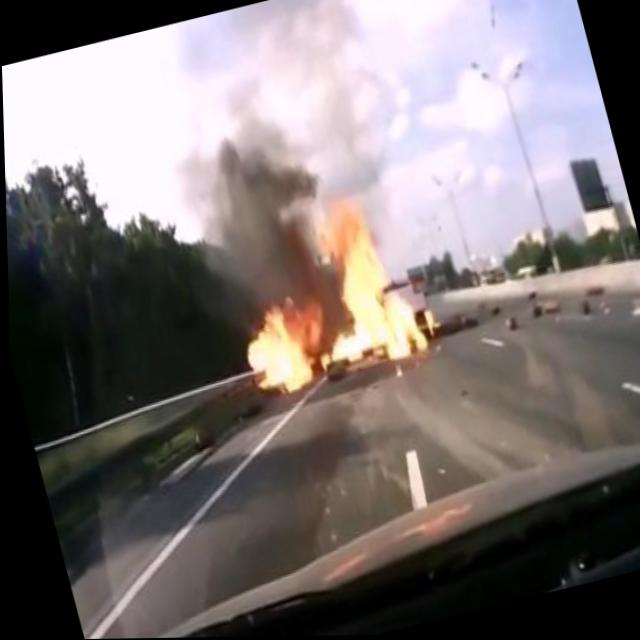fire: (208, 184, 447, 413)
